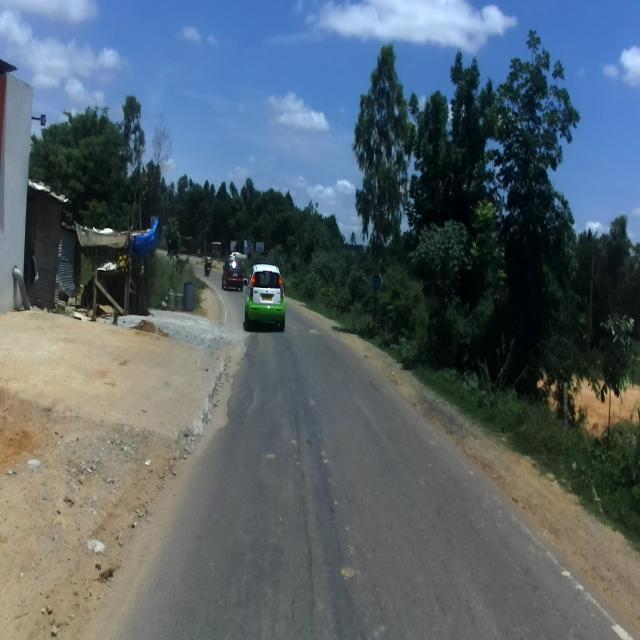pothole: (212, 330, 248, 428)
